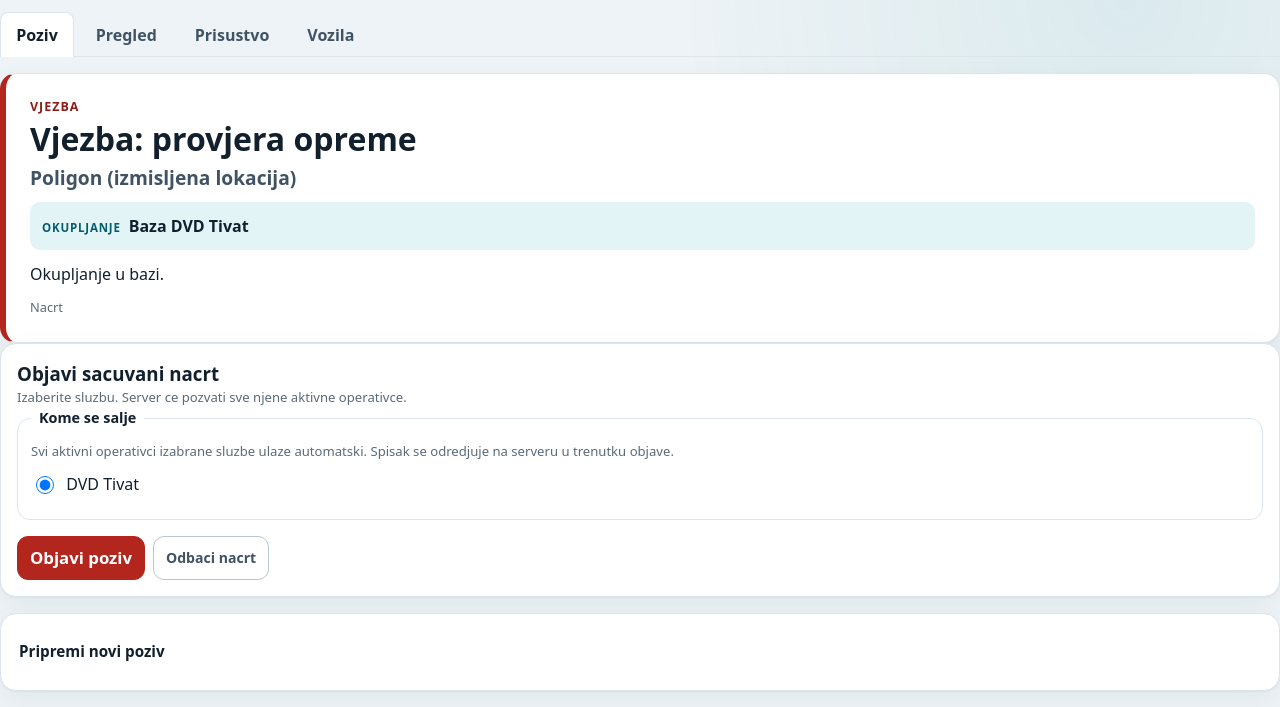
Test: the commander console renders on real data › automatic recipients follow server eligibility › shows current unique recipients and push-ready accounts before confirmation
Click the button with test id "publish": (81,558) x1=17 y1=536 x2=145 y2=580
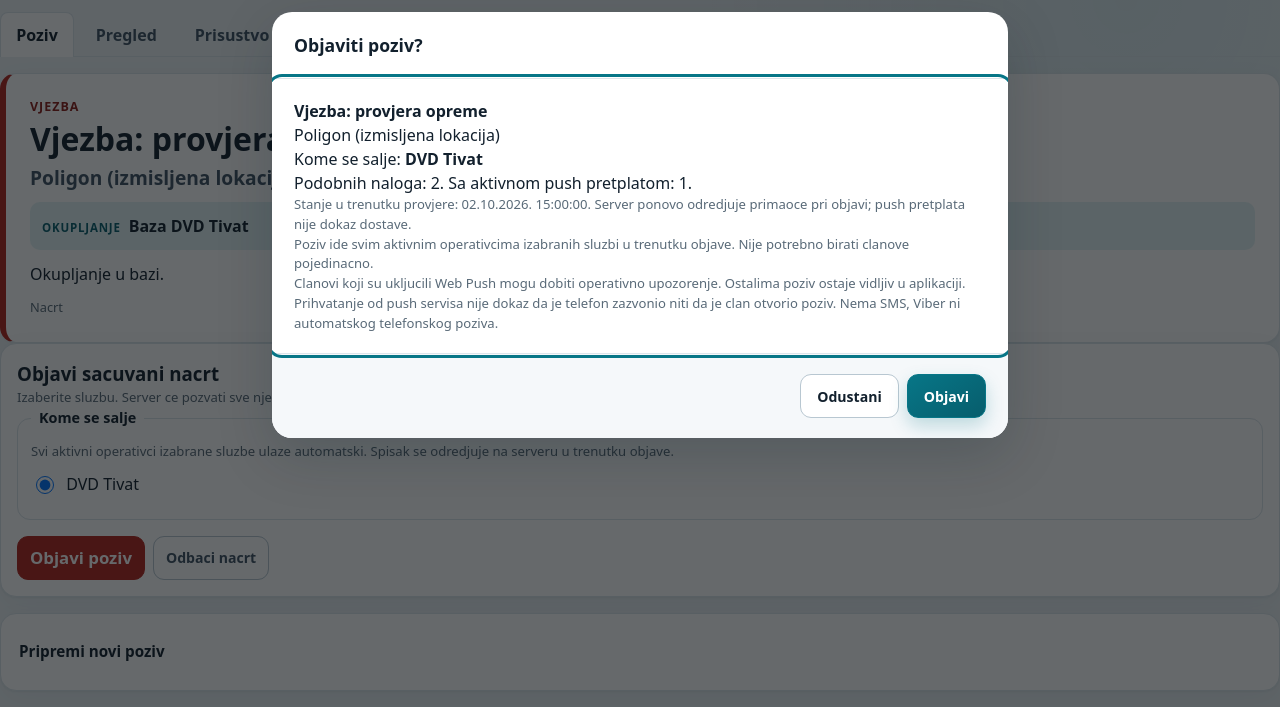
expect the text with test id "readiness-counts" reads "Podobnih naloga: 2. Sa aktivnom push pretplatom: 1.": met, box x1=294 y1=172 x2=692 y2=194
expect the text "ponovo odredjuje primaoce pri objavi" is shown: met, box x1=294 y1=195 x2=965 y2=233
